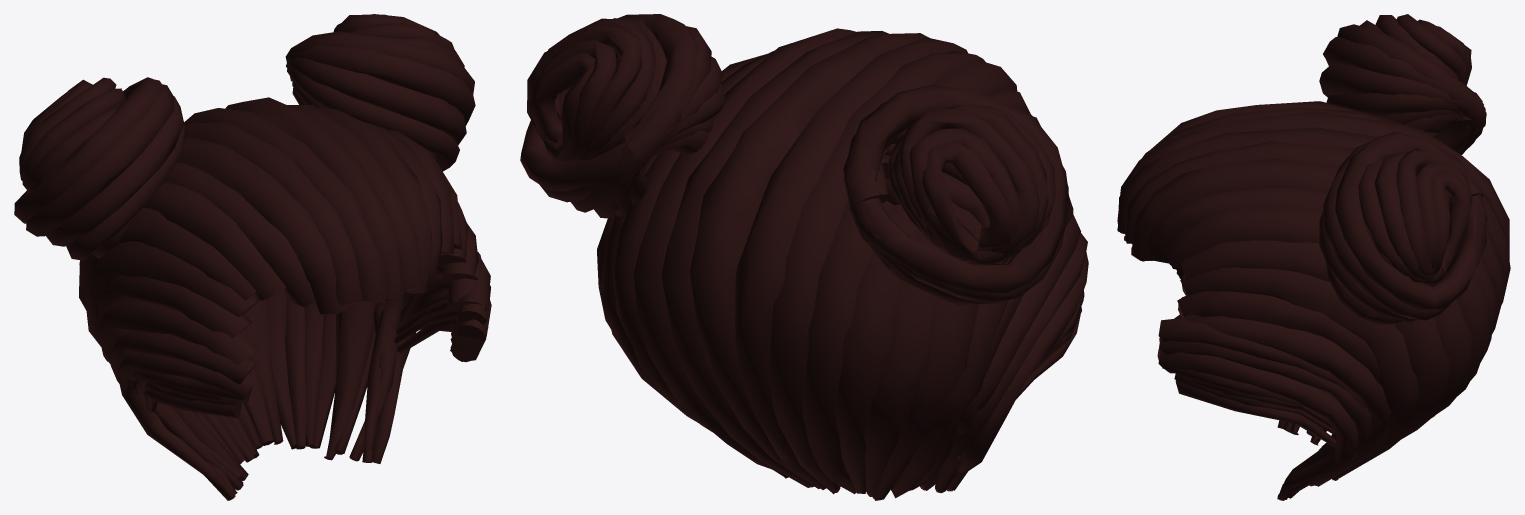
File: hair-6-70e56811.glb
The picture shows the model from 3 angles, left to right: view 1: azimuth 30°, elevation 25°; view 2: azimuth 150°, elevation 25°; view 3: azimuth 270°, elevation 25°; orthographic projection. The views are drawn at different scales.
Visible parts, largest first — view 1: hair_6.001; view 2: hair_6.001; view 3: hair_6.001.
Boxes of the visible parts, x1,y1,x2,y2 form: hair_6.001: (14,14,491,500); hair_6.001: (520,14,1088,500); hair_6.001: (1117,14,1510,500).
Size of the model in its own units: 2.42 by 2.03 by 1.9.
